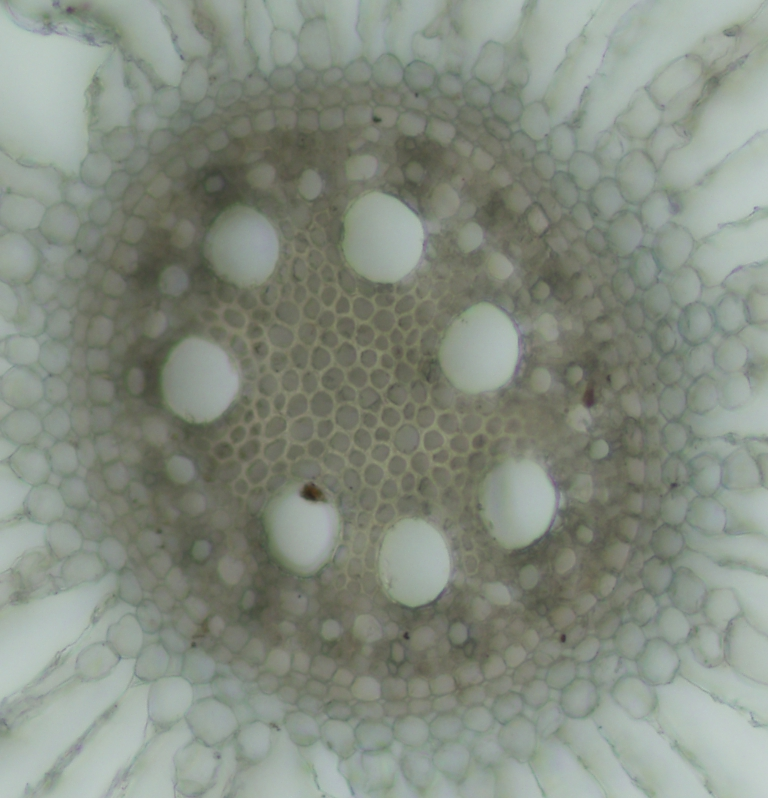lm: (261, 476, 342, 575), (338, 190, 424, 283), (438, 300, 519, 395), (159, 335, 243, 426), (478, 453, 556, 549), (375, 515, 449, 608), (204, 201, 279, 289)
